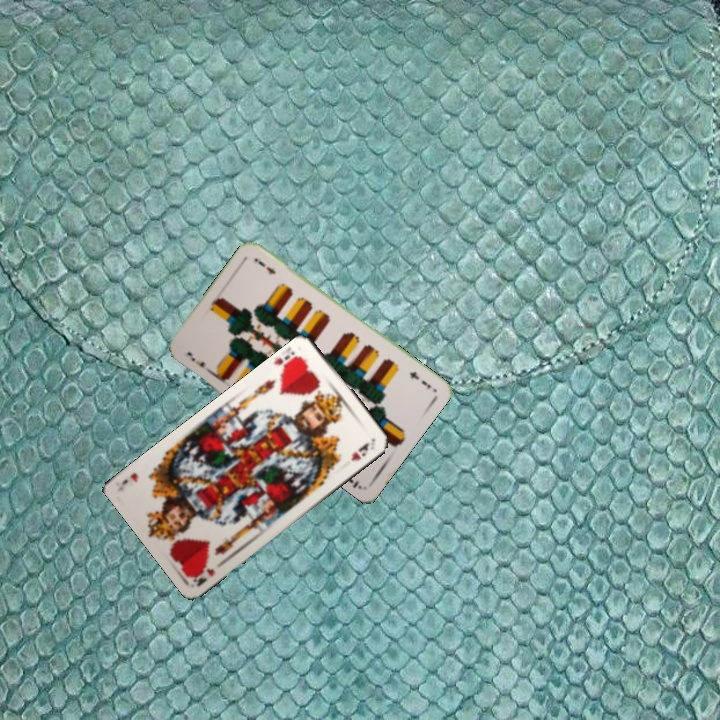E7: (183, 348, 215, 376), (405, 367, 434, 391)
HK: (275, 345, 305, 378), (188, 562, 217, 589)
